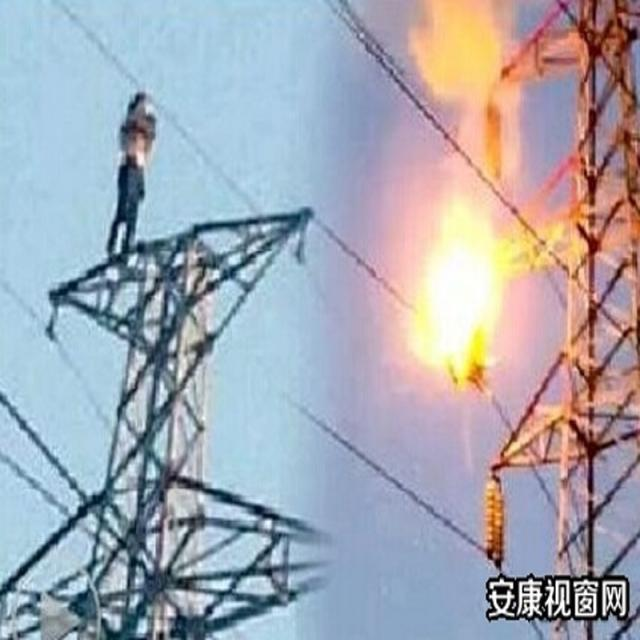non-critical vegetation: (34, 227, 300, 636), (518, 25, 636, 636)
